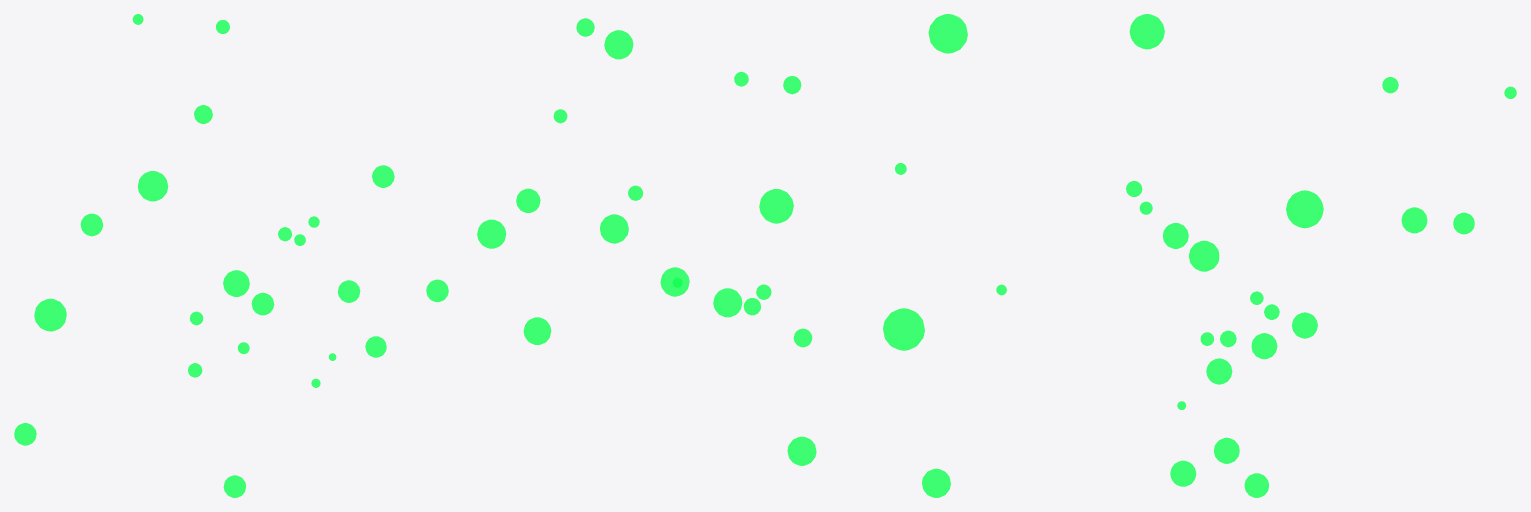
The picture shows the model from 3 angles, left to right: view 1: azimuth 30°, elevation 25°; view 2: azimuth 150°, elevation 25°; view 3: azimuth 270°, elevation 25°; orthographic projection. The views are drawn at different scales.
Visible parts, largest first — view 1: Calderone.021; view 2: Calderone.021; view 3: Calderone.021.
Part boxes in pixels (x1,y1,x2,y2): Calderone.021: (14,14,448,497); Calderone.021: (477,14,967,497); Calderone.021: (996,14,1516,497).
Bounding box in the file's own units: 246 × 232 × 242.
